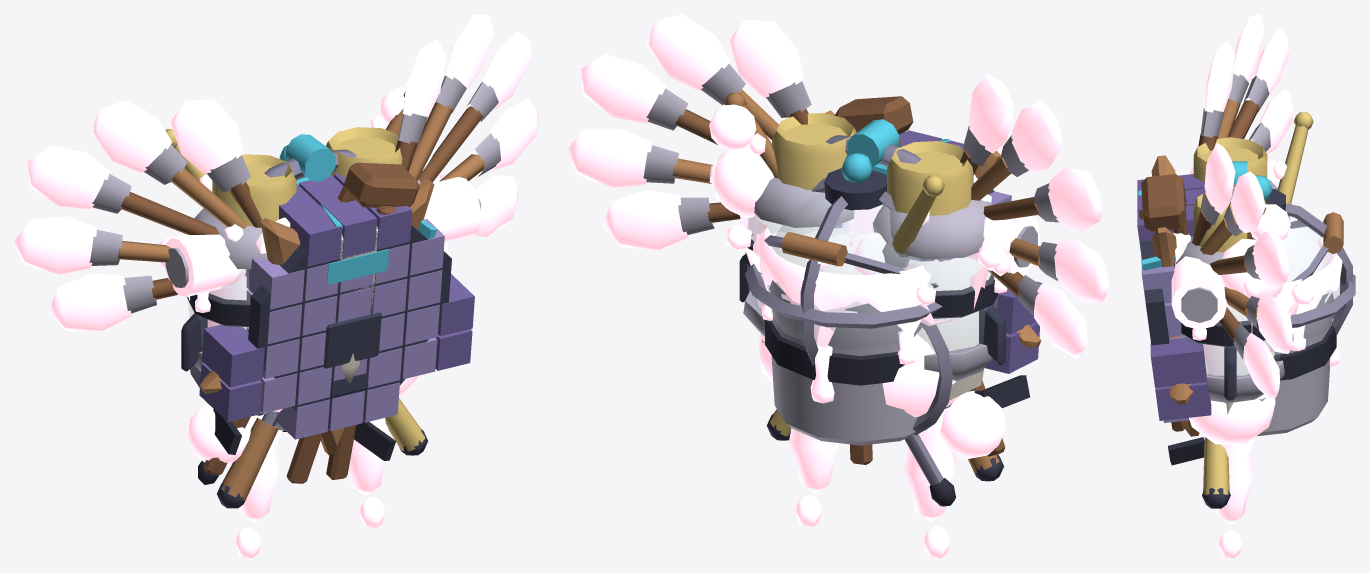
The model's file is cosmetic_backbling.glb.
3 renders of one model, left to right at view 1: azimuth 30°, elevation 25°; view 2: azimuth 150°, elevation 25°; view 3: azimuth 270°, elevation 25°, orthographic. The views are drawn at different scales.
Visible parts, largest first — view 1: Back_WING_PACK, Back_PIXEL_PACK, Back_JET_PACK, Back_ROLLER_RIG, Back_MINI_TANK, Back_EASEL_PACK, Back_STAR_PACK, Back_BUBBLE_PACK, Back_SPLASH_PACK, Back_PAINT_CAN; view 2: Back_WING_PACK, Back_PAINT_CAN, Back_MINI_TANK, Back_JET_PACK, Back_BUBBLE_PACK, Back_ORB_PACK, Back_SPLASH_PACK, Back_PIXEL_PACK, Back_EASEL_PACK, Back_ROLLER_RIG, Back_STAR_PACK; view 3: Back_WING_PACK, Back_PAINT_CAN, Back_PIXEL_PACK, Back_JET_PACK, Back_MINI_TANK, Back_BUBBLE_PACK, Back_ROLLER_RIG, Back_ORB_PACK, Back_EASEL_PACK, Back_STAR_PACK, Back_SPLASH_PACK.
Boxes of the visible parts, x1,y1,x2,y2 form: Back_WING_PACK: (14, 14, 538, 382); Back_PIXEL_PACK: (199, 173, 474, 439); Back_JET_PACK: (181, 127, 402, 558); Back_ROLLER_RIG: (164, 177, 481, 508); Back_MINI_TANK: (187, 134, 451, 388); Back_EASEL_PACK: (203, 162, 436, 483); Back_STAR_PACK: (200, 178, 473, 455); Back_BUBBLE_PACK: (187, 86, 440, 484); Back_SPLASH_PACK: (159, 115, 443, 412); Back_PAINT_CAN: (165, 92, 416, 430); Back_WING_PACK: (567, 14, 1108, 358); Back_PAINT_CAN: (724, 92, 944, 445); Back_MINI_TANK: (743, 119, 998, 380); Back_JET_PACK: (739, 113, 1005, 558); Back_BUBBLE_PACK: (709, 104, 1005, 506); Back_ORB_PACK: (745, 153, 943, 366); Back_SPLASH_PACK: (709, 133, 1009, 400); Back_PIXEL_PACK: (842, 130, 1042, 373); Back_EASEL_PACK: (834, 96, 1029, 464); Back_ROLLER_RIG: (766, 143, 1039, 481); Back_STAR_PACK: (825, 110, 1041, 347); Back_WING_PACK: (1192, 14, 1292, 401); Back_PAINT_CAN: (1247, 112, 1343, 436); Back_PIXEL_PACK: (1137, 174, 1211, 422); Back_JET_PACK: (1193, 137, 1267, 558); Back_MINI_TANK: (1140, 161, 1284, 402); Back_BUBBLE_PACK: (1189, 204, 1297, 444); Back_ROLLER_RIG: (1171, 166, 1230, 508); Back_ORB_PACK: (1255, 175, 1355, 339); Back_EASEL_PACK: (1137, 174, 1204, 465); Back_STAR_PACK: (1151, 155, 1208, 436); Back_SPLASH_PACK: (1224, 160, 1329, 413).
Size of the model in its own units: 0.9888 by 0.8609 by 0.3896.
